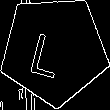L_N: (33, 22, 75, 78)
